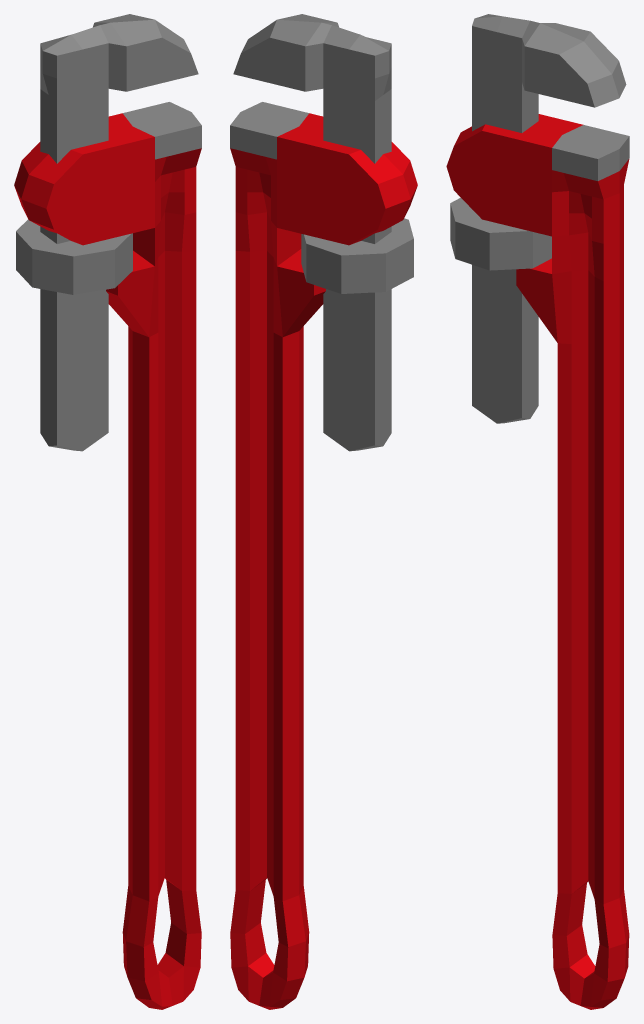
File: Monkey Wrench.fbx
3 renders of one model, left to right at view 1: azimuth 30°, elevation 25°; view 2: azimuth 150°, elevation 25°; view 3: azimuth 330°, elevation 25°, orthographic. The views are drawn at different scales.
Parts seen in each view (by area): view 1: Monkey Wrench Base, Monkey Wrench Head, Monkey Wrench Adjuster; view 2: Monkey Wrench Base, Monkey Wrench Head, Monkey Wrench Adjuster; view 3: Monkey Wrench Base, Monkey Wrench Head, Monkey Wrench Adjuster.
Part boxes in pixels (x1,y1,x2,y2): Monkey Wrench Base: (14, 102, 201, 1009); Monkey Wrench Head: (40, 14, 198, 451); Monkey Wrench Adjuster: (16, 219, 132, 294); Monkey Wrench Base: (230, 102, 417, 1009); Monkey Wrench Head: (233, 14, 391, 451); Monkey Wrench Adjuster: (301, 218, 413, 293); Monkey Wrench Base: (446, 114, 629, 1009); Monkey Wrench Head: (472, 14, 626, 423); Monkey Wrench Adjuster: (450, 197, 551, 270).
Bounding box in the file's own units: 0.1944 × 1.05 × 0.1079.
